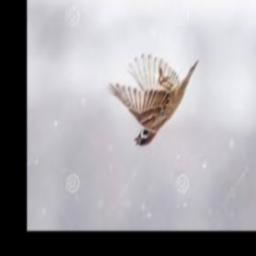Sparrow: (105, 54, 198, 147)
